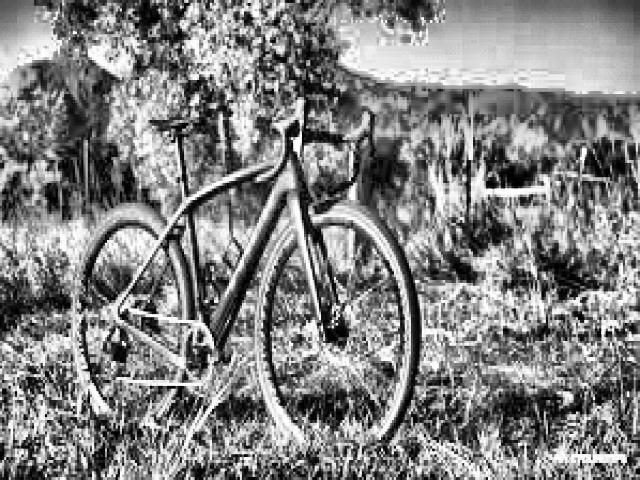cranks_set: (178, 318, 223, 389)
rear_derailleur: (99, 326, 128, 376)
saddle: (148, 112, 206, 136)
sti_shifter: (293, 92, 307, 164), (361, 111, 378, 159)
wheel: (253, 203, 420, 450), (70, 202, 194, 432)
